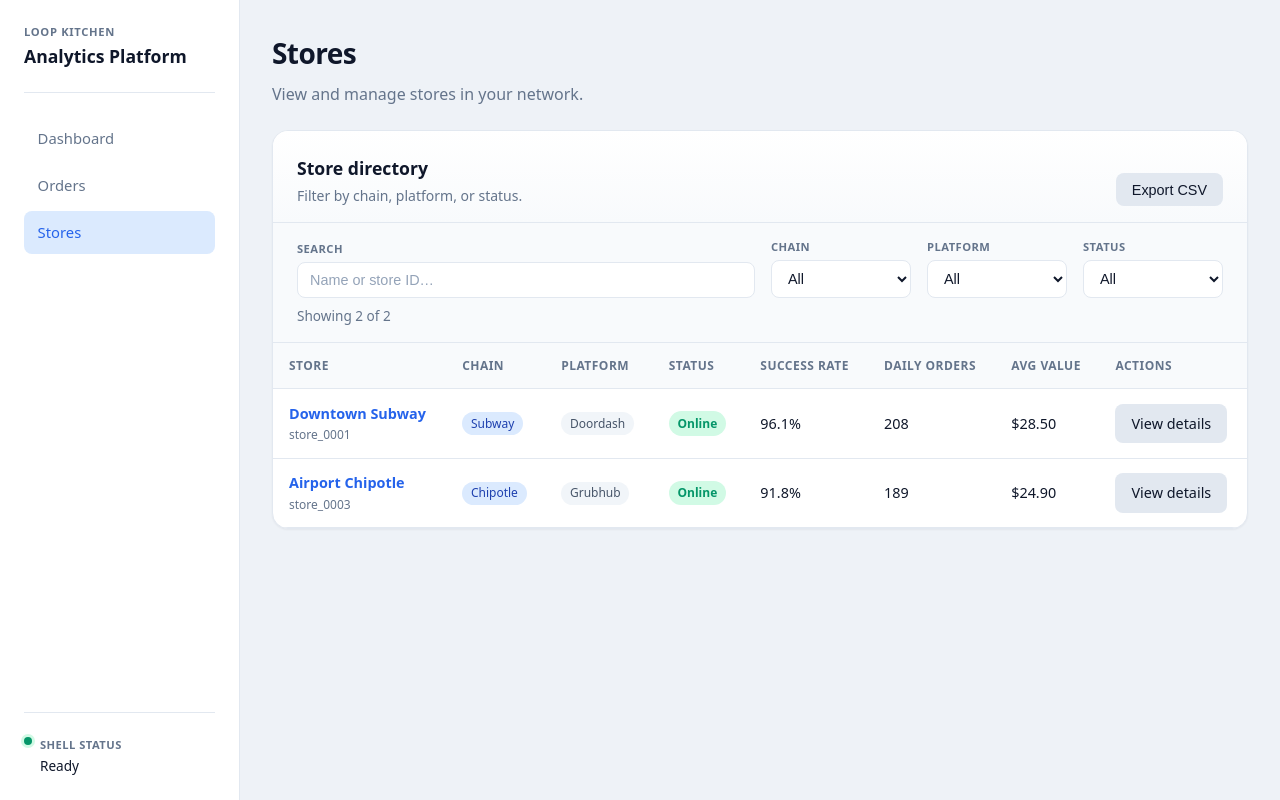
Test: App › refetches stores when platform filter changes
The width and height of the screenshot is (1280, 800).
Click the link "Stores" at (120, 232), box [24,211,215,254]
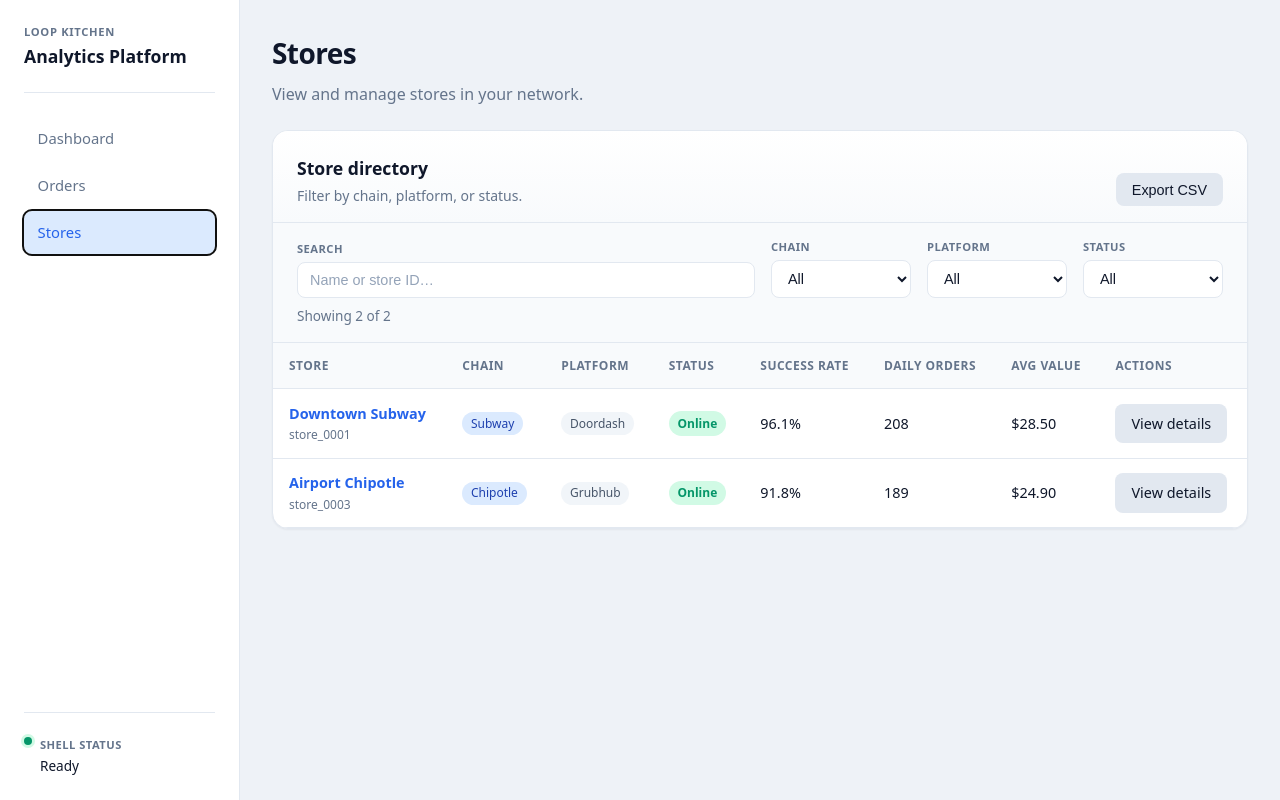
Expected: the link "Downtown Subway" is shown, [289,403,430,425]
Select "grubhub" in the dropdown labelled "Platform" at (997, 279), box [927,260,1067,298]
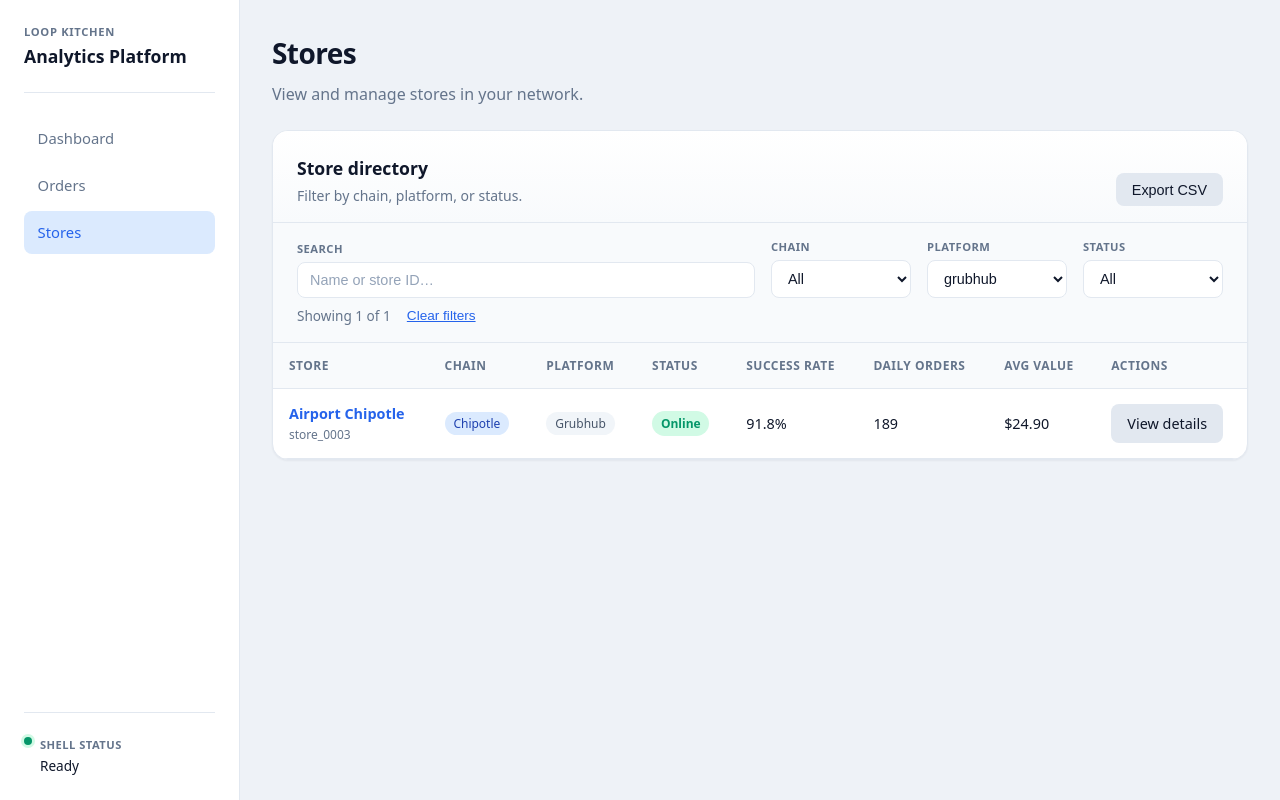
Expected: the link "Airport Chipotle" is shown, [289,403,413,425]
Expected: the link "Downtown Subway" is gone
